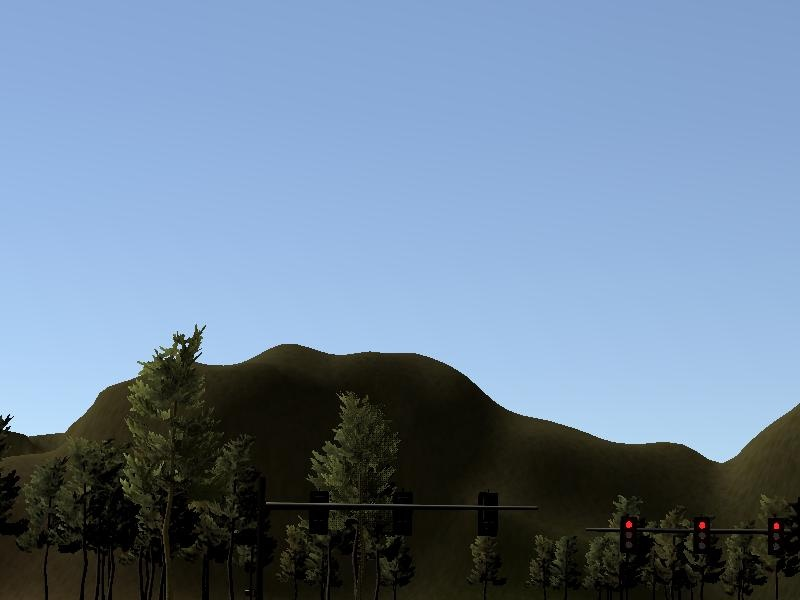traffic_light_red: (603, 518, 795, 559)
